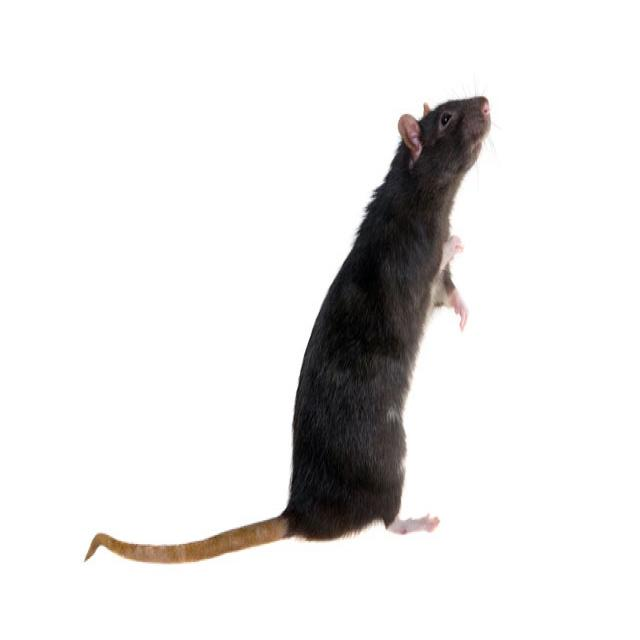rat: (282, 64, 496, 556)
